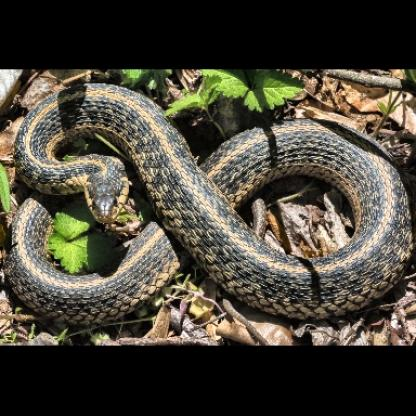Snake: (6, 85, 410, 355)
